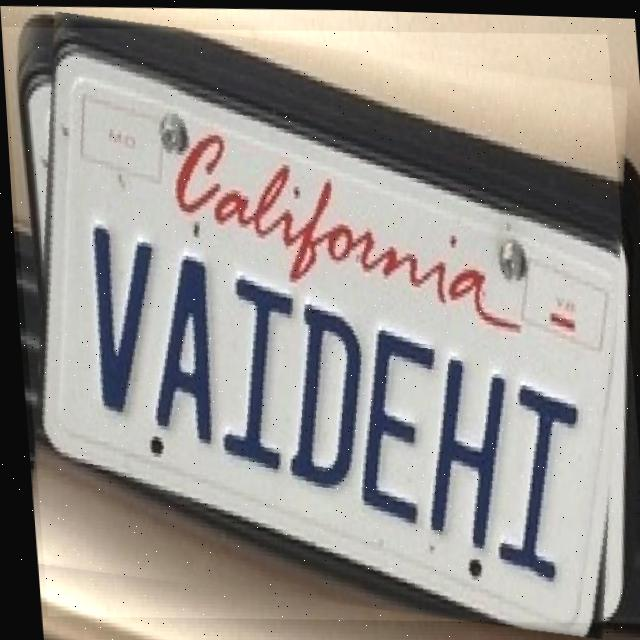LicensePlate: (2, 16, 640, 629)
